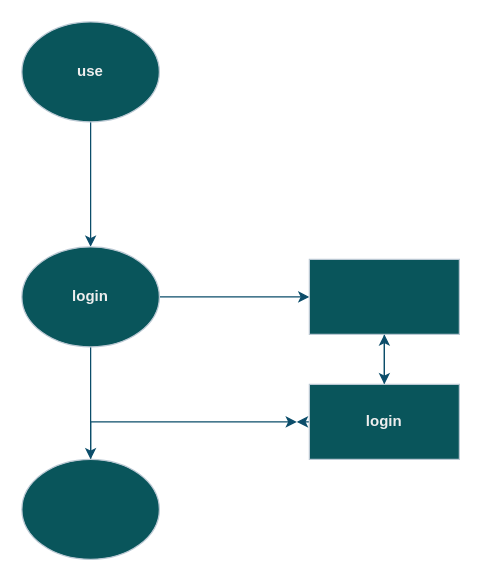
The diagram is 481 pixels wide and 581 high, and some of its shapes have lost their labels. Here are the shapes that lost their labels. From the top down, the box of each, then its label:
(308, 258, 459, 334): sign up
(21, 458, 159, 559): main page
